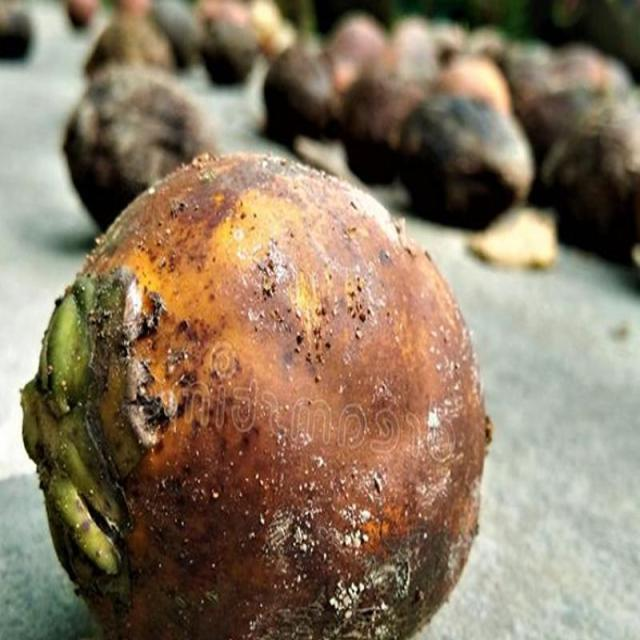damaged: (19, 154, 492, 639)
